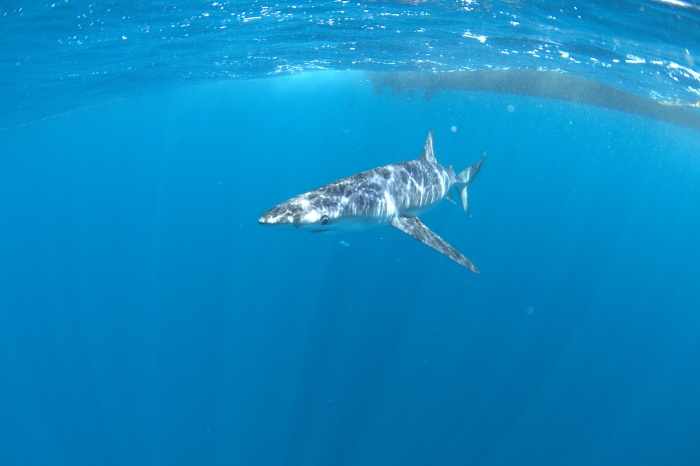Azul: (239, 105, 517, 301)
